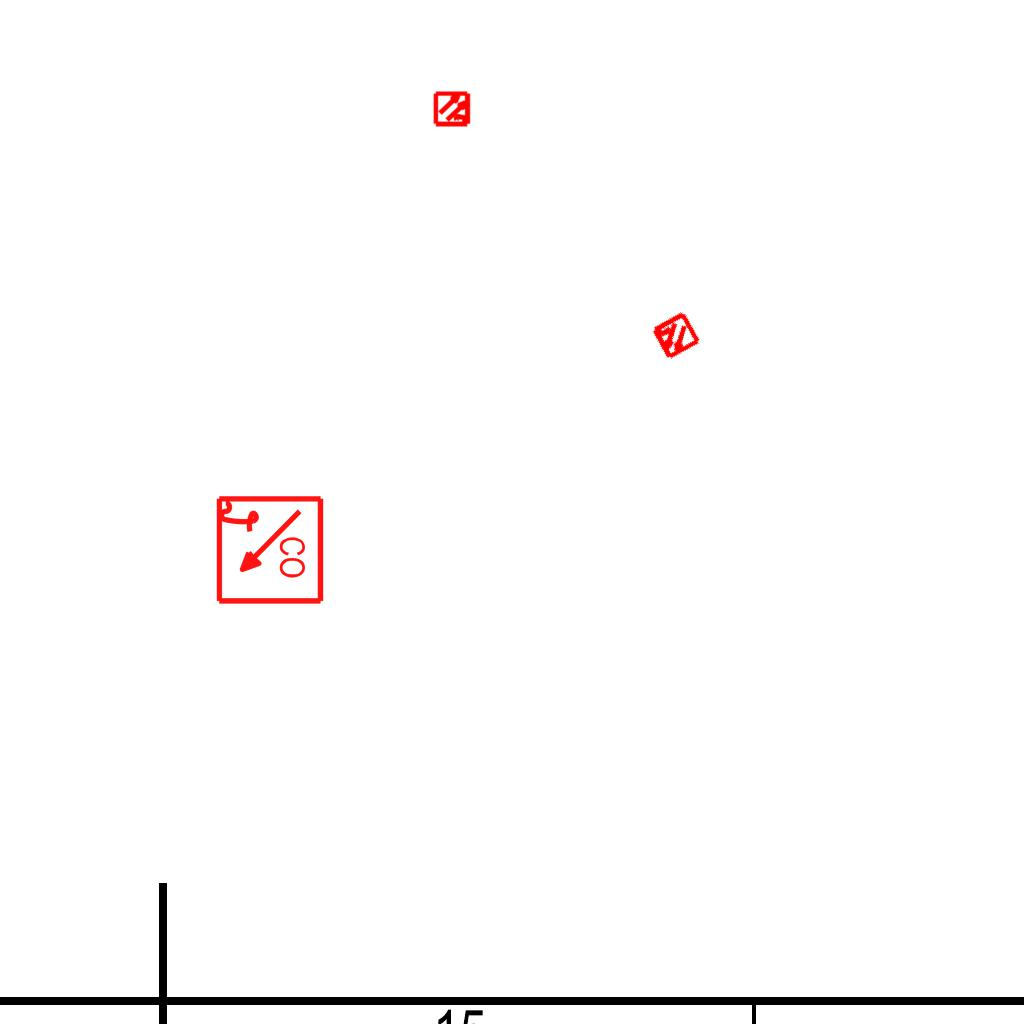OT_Multisensormelder_(Kombination_RMO_WMD): (636, 297, 714, 375), (425, 81, 481, 137)
ROA_Rauchmelder_optisch_mit_Signalgeber_(Sockelsirene): (212, 494, 325, 607)
